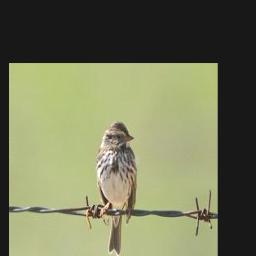Sparrow: (94, 120, 139, 254)
